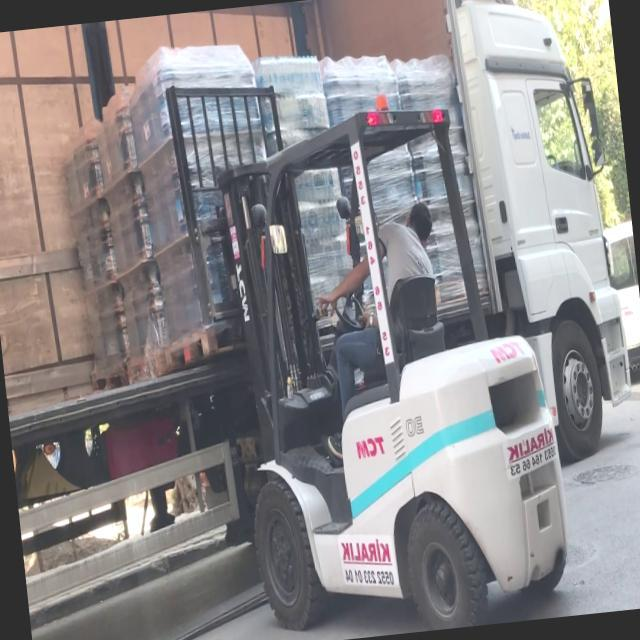driver: (314, 192, 452, 371)
forklift: (201, 76, 585, 640)
